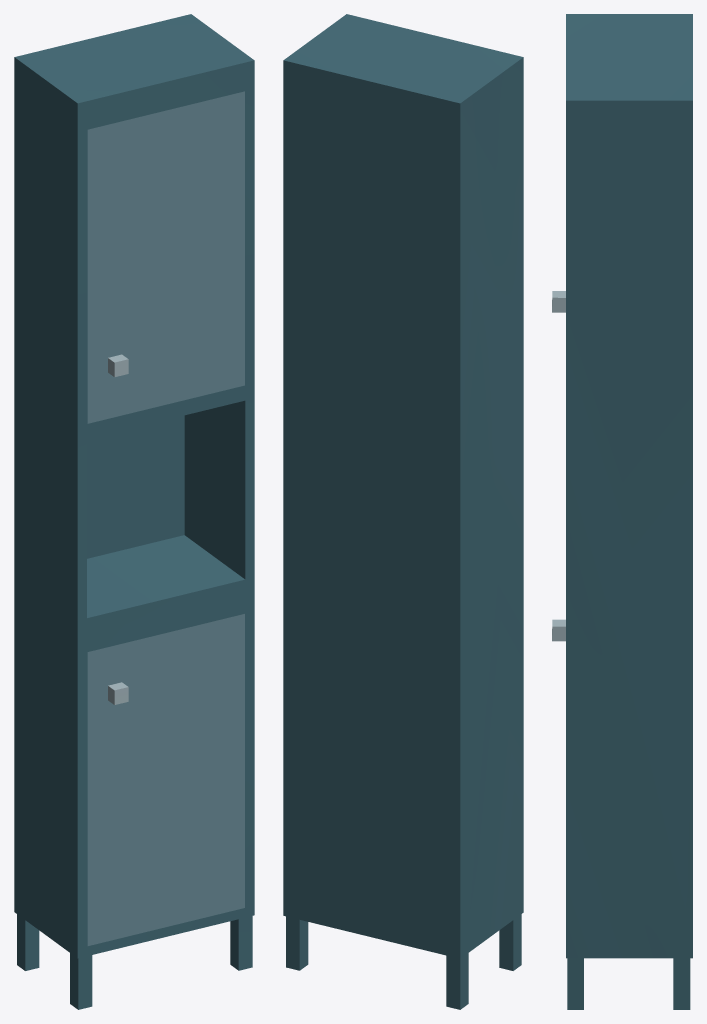
The model's file is closet_002.obj.
3 renders of one model, left to right at view 1: azimuth 30°, elevation 25°; view 2: azimuth 150°, elevation 25°; view 3: azimuth 270°, elevation 25°, orthographic.
Visible parts, largest first — view 1: closet_002; view 2: closet_002; view 3: closet_002.
Part boxes in pixels (x1,y1,x2,y2): closet_002: [14, 14, 254, 1009]; closet_002: [283, 14, 523, 1009]; closet_002: [552, 14, 692, 1009].
Size of the model in its own units: 0.3999 by 1.96 by 0.2749.
